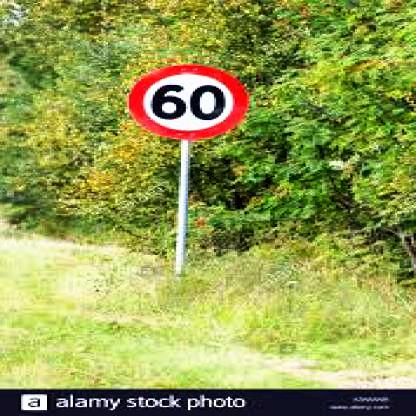Speed Limit -60-: (126, 60, 250, 142)
